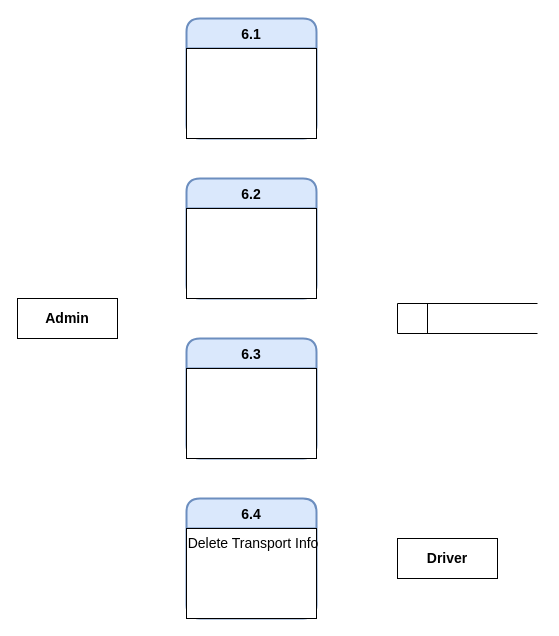
This 559x636 diagram has some shape labels left out. The shapes that lost their labels are listed below. From the top down, each one's centre as x and y in pixels, then its label:
(251,93): Add Transport Info
(251,253): View Transport Info
(467,318): D1 TSM Database
(251,413): Update Transport Info
